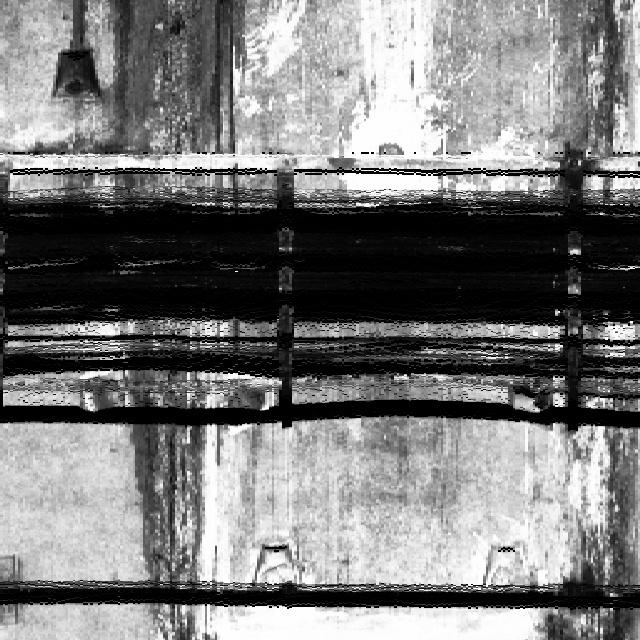leakage: (93, 0, 257, 201), (114, 327, 219, 639), (536, 379, 639, 639), (554, 2, 639, 199)
